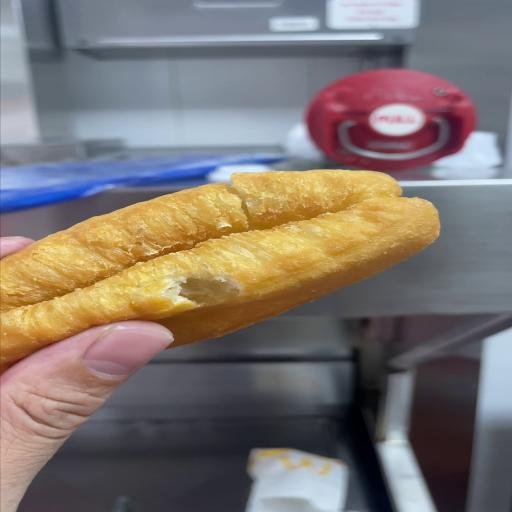brand_golden_defect: (0, 170, 439, 370)
